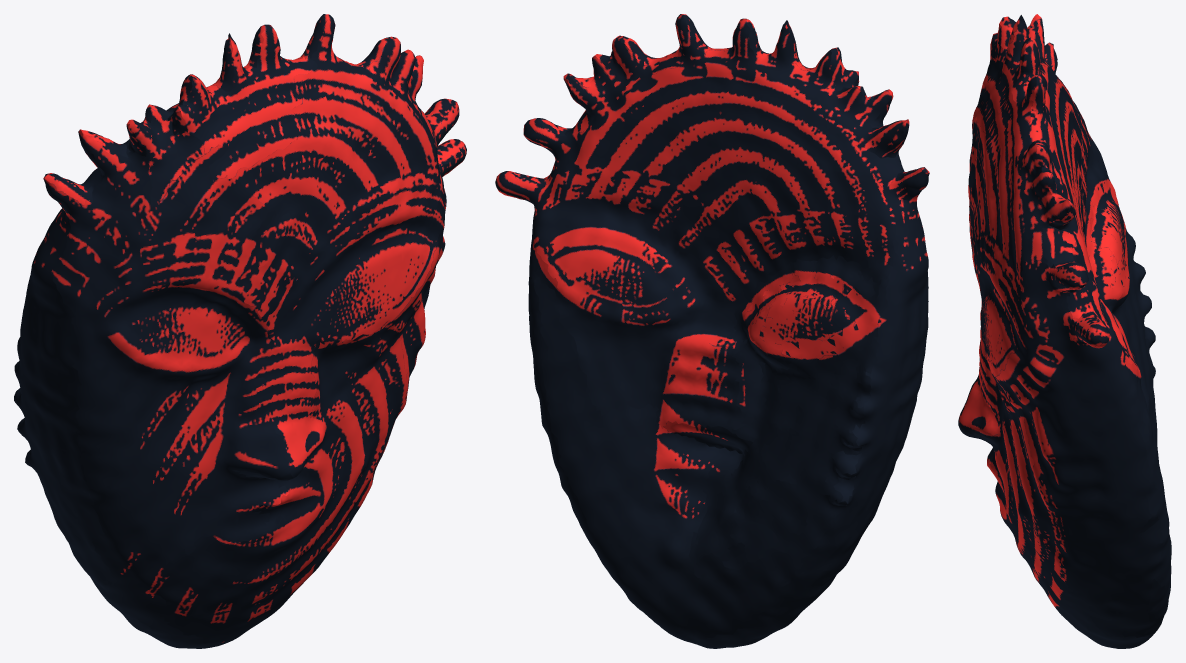
File: faceless.glb
3 renders of one model, left to right at view 1: azimuth 30°, elevation 25°; view 2: azimuth 150°, elevation 25°; view 3: azimuth 270°, elevation 25°, orthographic. The views are drawn at different scales.
Visible parts, largest first — view 1: world; view 2: world; view 3: world.
Part boxes in pixels (x1,y1,x2,y2): world: [14, 14, 466, 648]; world: [495, 14, 929, 648]; world: [958, 14, 1171, 648].
Size of the model in its own units: 1.06 by 1.48 by 0.4651.
1 material, 1 textured.
